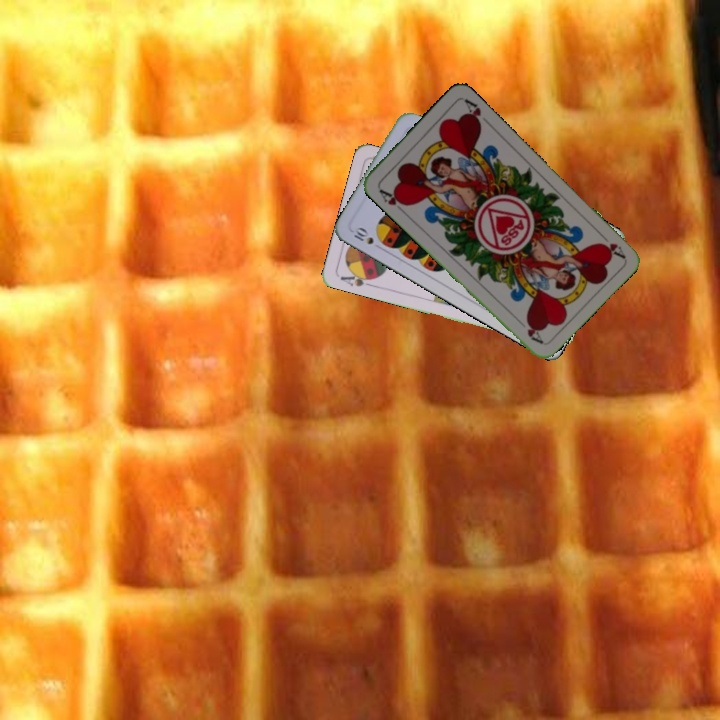HA: (594, 228, 627, 261), (374, 183, 410, 209)
S10: (350, 222, 387, 252)
SA: (336, 267, 378, 289)
